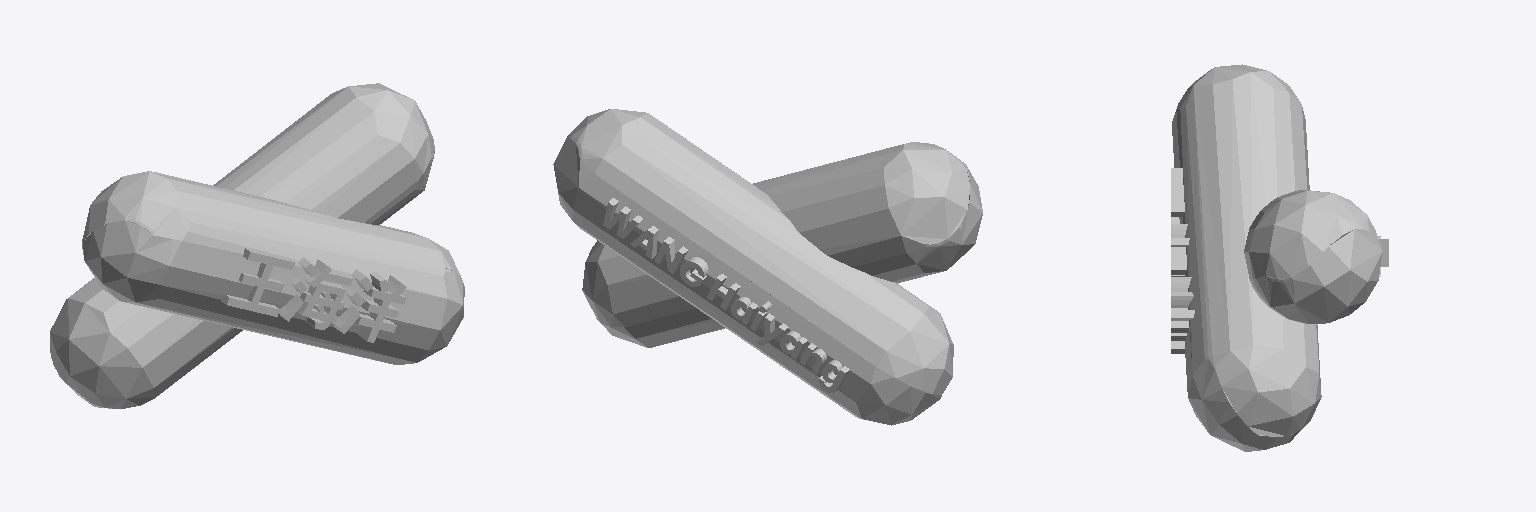
File: WangHaiyang.obj
The picture shows the model from 3 angles: view 1: azimuth 30°, elevation 25°; view 2: azimuth 150°, elevation 25°; view 3: azimuth 270°, elevation 25°; orthographic projection.
Parts seen in each view (by area): view 1: root_3, root_2, node_id713; view 2: root_2, root_3, node_id724; view 3: root_3, root_2, node_id713.
Boxes of the visible parts, box(x1,y1,x2,y2) form: root_3: box(82, 171, 464, 364); root_2: box(50, 83, 434, 408); node_id713: box(221, 248, 406, 342); root_2: box(553, 109, 953, 425); root_3: box(582, 142, 982, 347); node_id724: box(603, 198, 849, 392); root_3: box(1172, 64, 1321, 451); root_2: box(1244, 190, 1382, 323); node_id713: box(1171, 168, 1194, 353).
Size of the model in its own units: 0.289 by 0.1836 by 0.1449.